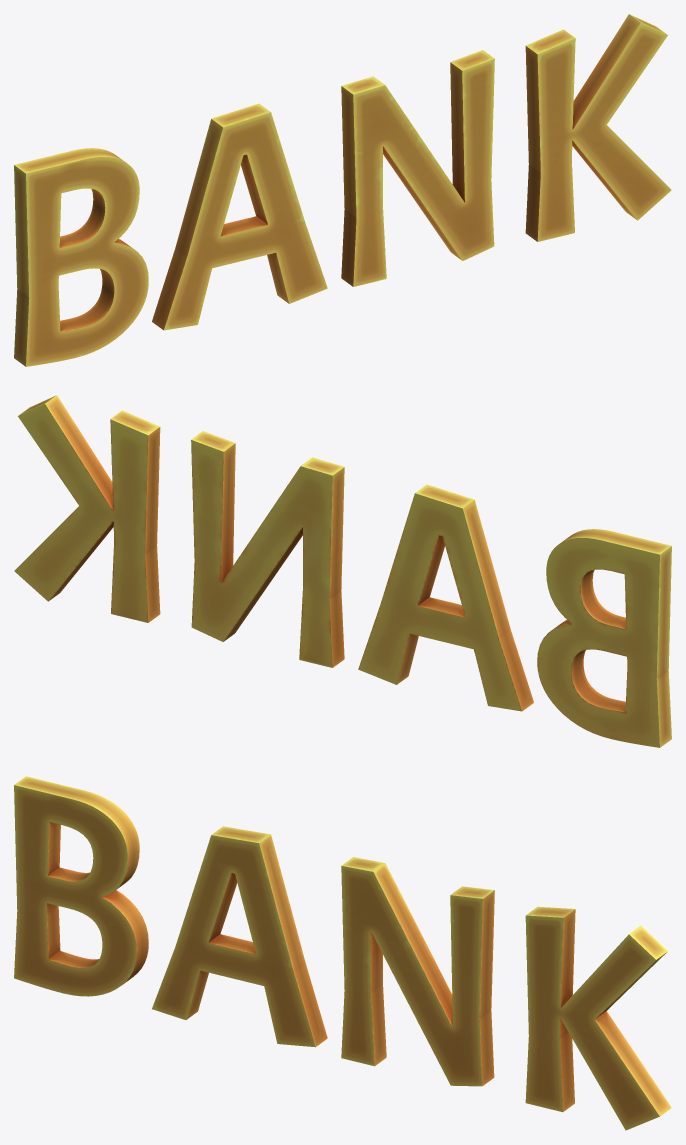
The model's file is SignBank01.FBX.
3 renders of one model, top to bottom at view 1: azimuth 30°, elevation 25°; view 2: azimuth 150°, elevation 25°; view 3: azimuth 330°, elevation 25°, orthographic.
Visible parts, largest first — view 1: SignBank01; view 2: SignBank01; view 3: SignBank01.
Boxes of the visible parts, x1=… form: SignBank01: x1=14, y1=14, x2=671, y2=366; SignBank01: x1=14, y1=395, x2=671, y2=747; SignBank01: x1=14, y1=776, x2=671, y2=1130.
Size of what is drawn, in the model's own units: 4.67 by 1.37 by 0.15.
